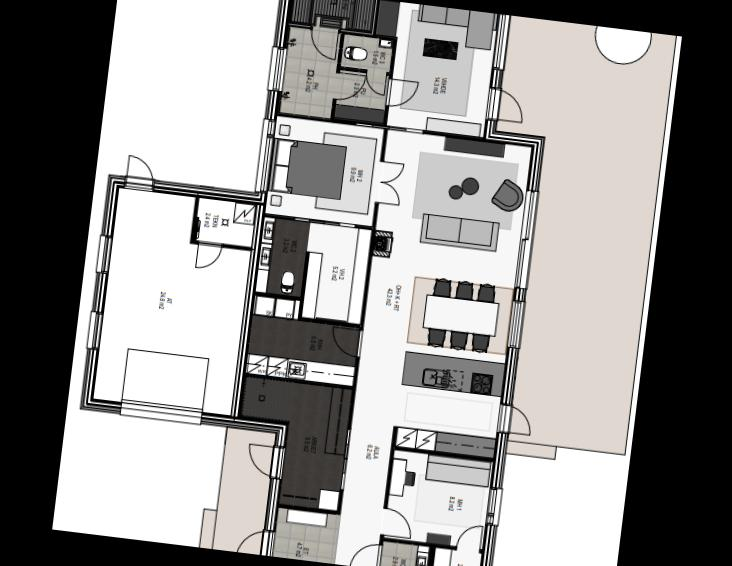door: (481, 84, 527, 126), (242, 438, 285, 478), (119, 153, 157, 196), (232, 522, 276, 557), (376, 504, 414, 542), (498, 398, 533, 439), (382, 76, 420, 113), (304, 24, 340, 63), (331, 65, 367, 104), (328, 317, 363, 357), (189, 240, 223, 274), (452, 520, 484, 556), (346, 539, 381, 566), (372, 182, 402, 208), (375, 158, 403, 185)
window: (508, 186, 539, 294), (110, 396, 204, 430), (251, 114, 277, 198), (486, 14, 510, 78), (259, 42, 287, 96), (507, 297, 529, 356), (484, 482, 506, 532), (96, 230, 115, 283), (84, 309, 104, 356)
